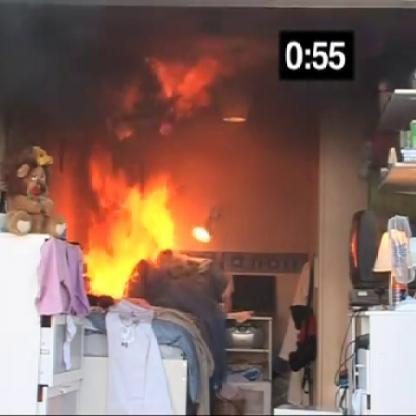fire: (76, 144, 183, 306), (92, 46, 236, 136)
smoke: (185, 207, 224, 262)
